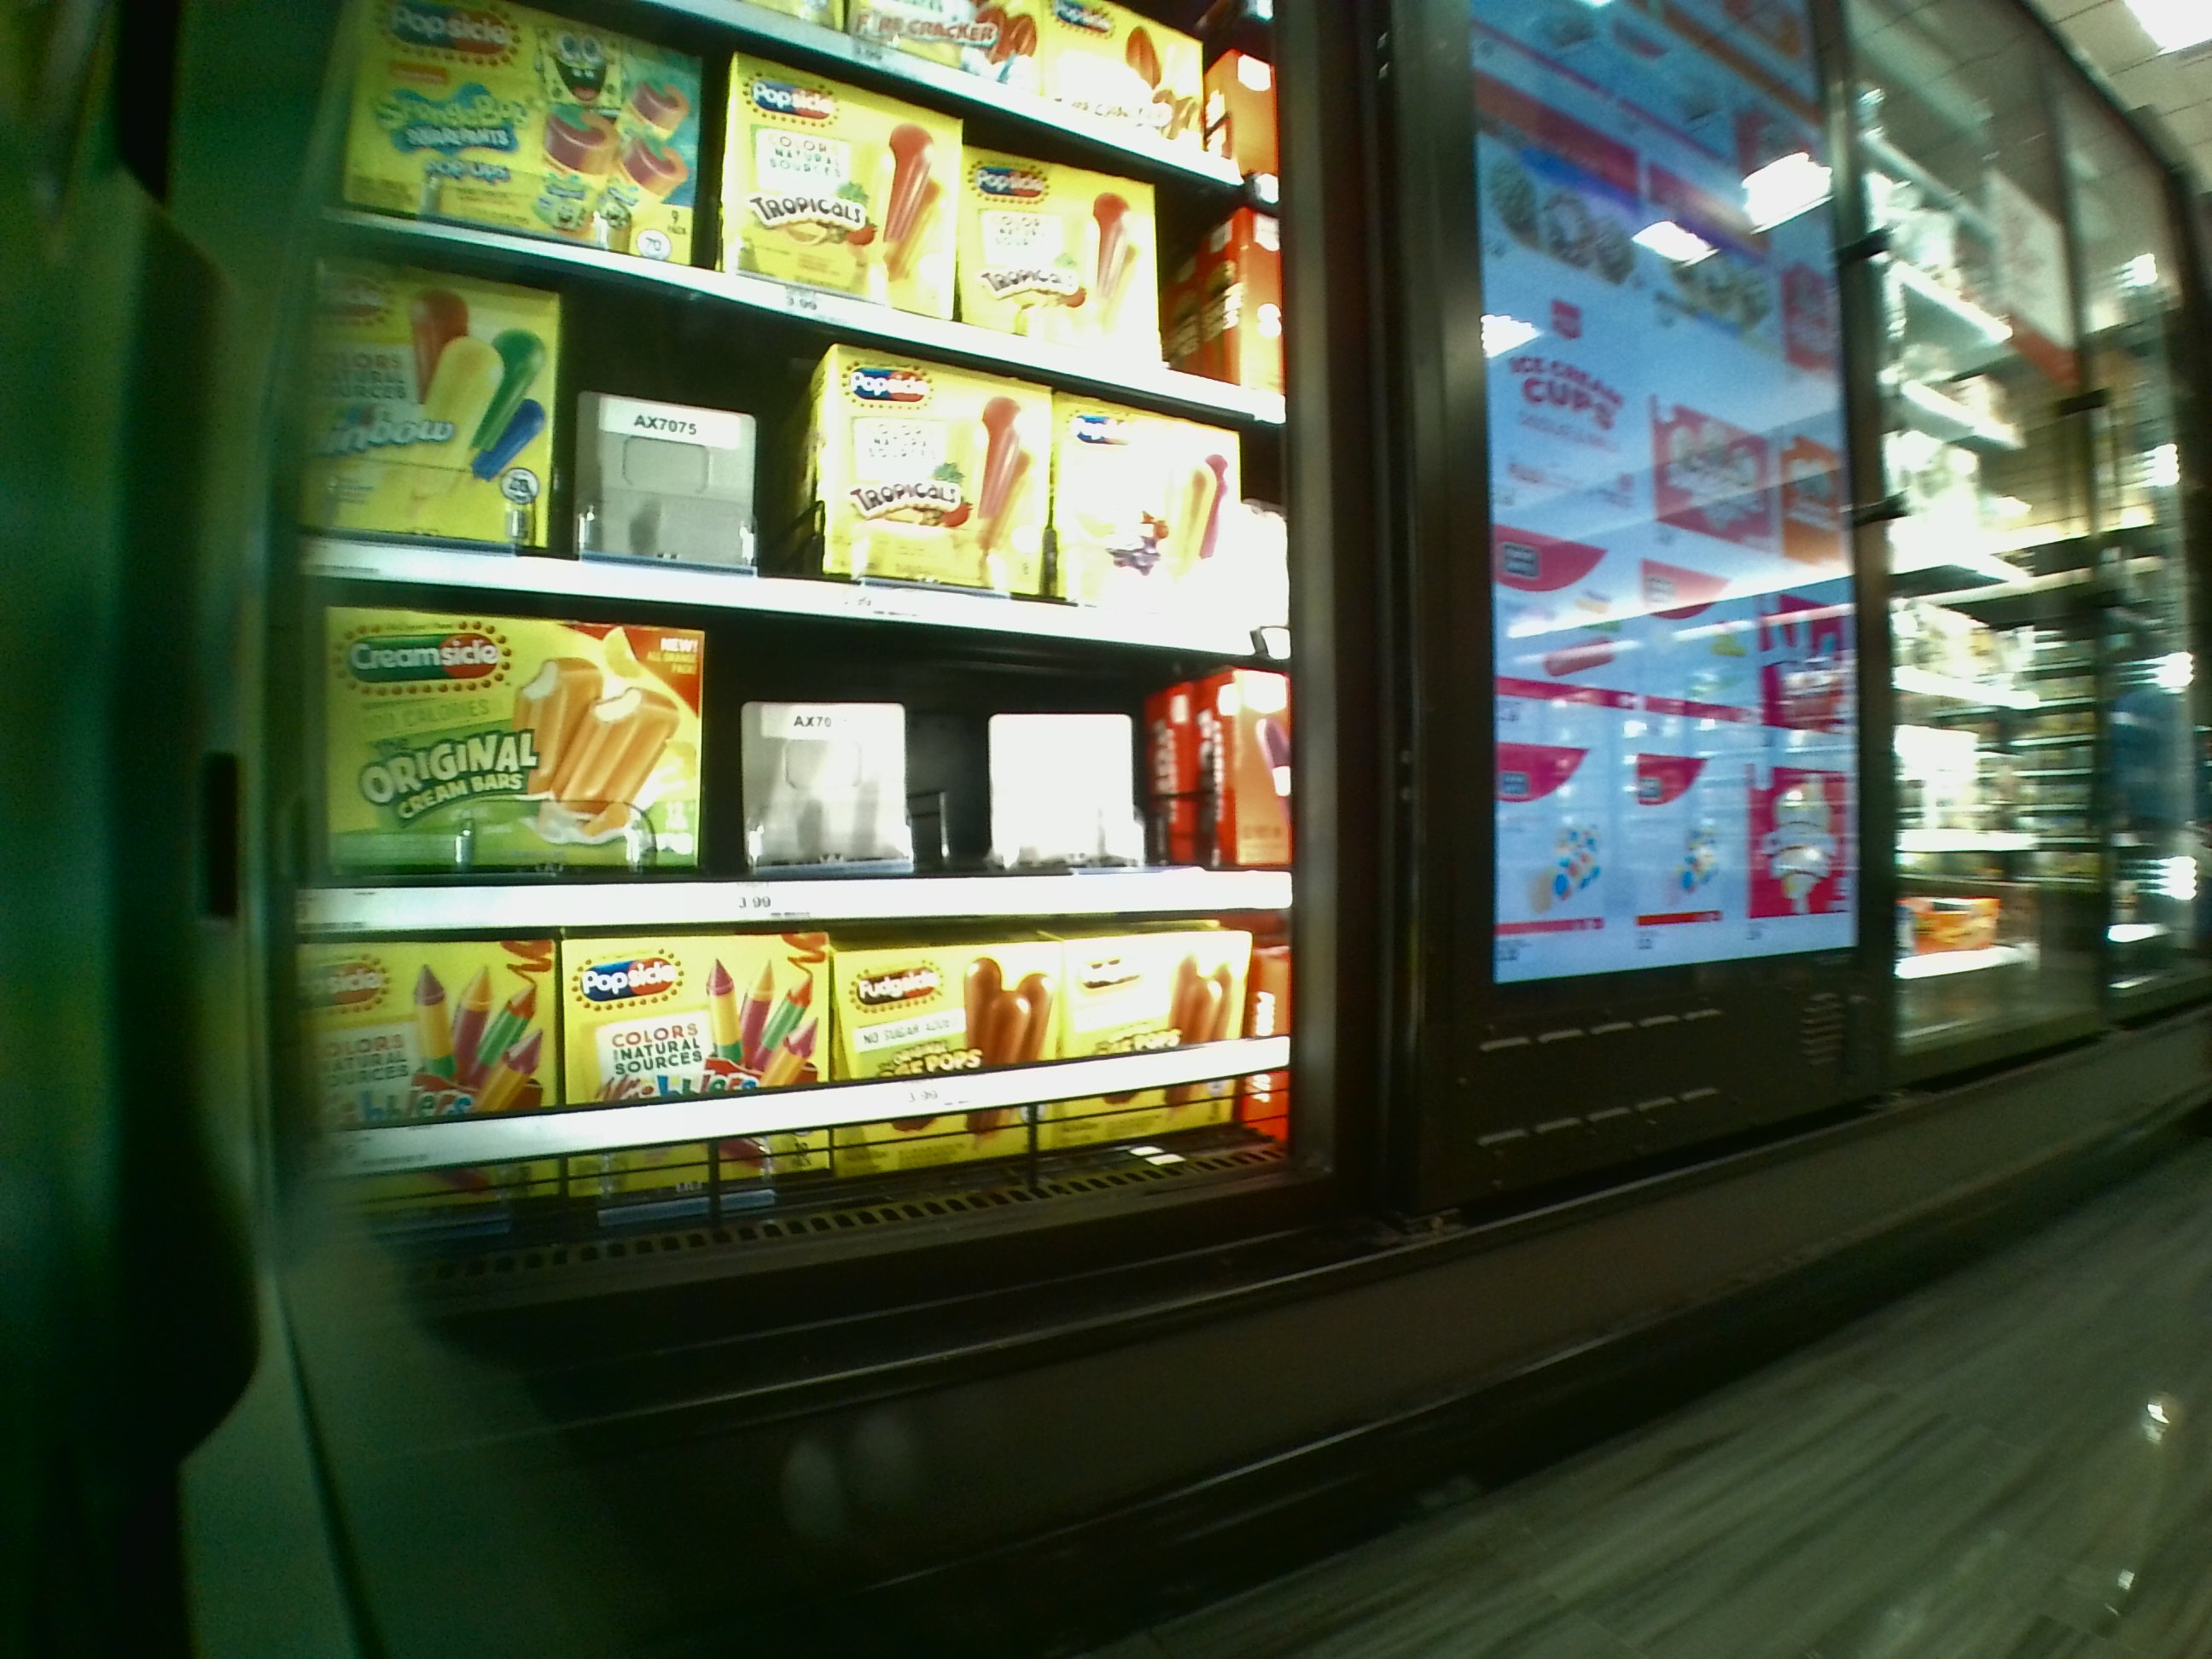shelf: (296, 605, 1284, 932), (300, 939, 1310, 1232), (279, 326, 1289, 613)
